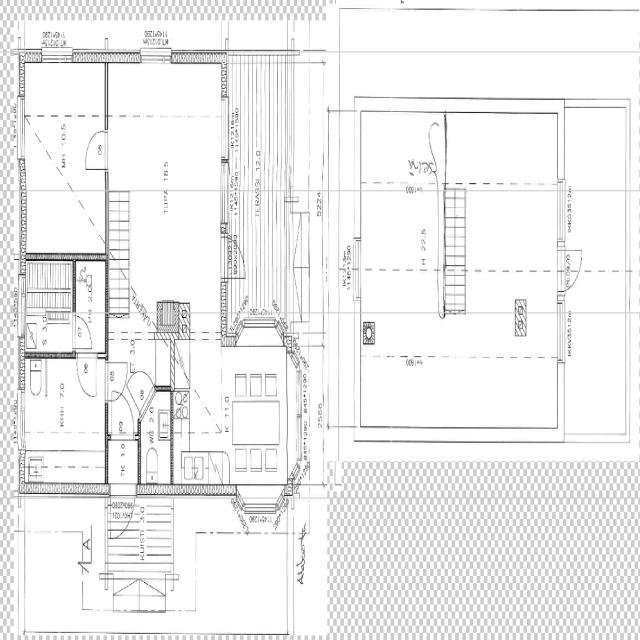door: (81, 122, 111, 174), (109, 491, 137, 543), (75, 350, 101, 404), (108, 390, 137, 438), (104, 360, 130, 411), (71, 312, 95, 352), (564, 254, 582, 293)
window: (238, 487, 285, 536), (236, 310, 283, 344), (138, 47, 173, 70), (556, 176, 567, 246), (16, 94, 27, 162), (40, 51, 73, 68)
zone: (107, 70, 227, 312), (452, 127, 560, 309), (20, 59, 106, 257), (360, 106, 441, 314), (564, 102, 629, 294), (20, 354, 107, 494), (228, 361, 294, 490), (564, 312, 630, 439), (22, 524, 84, 636), (22, 254, 74, 342), (140, 391, 173, 494), (73, 256, 107, 329), (105, 435, 140, 493)
